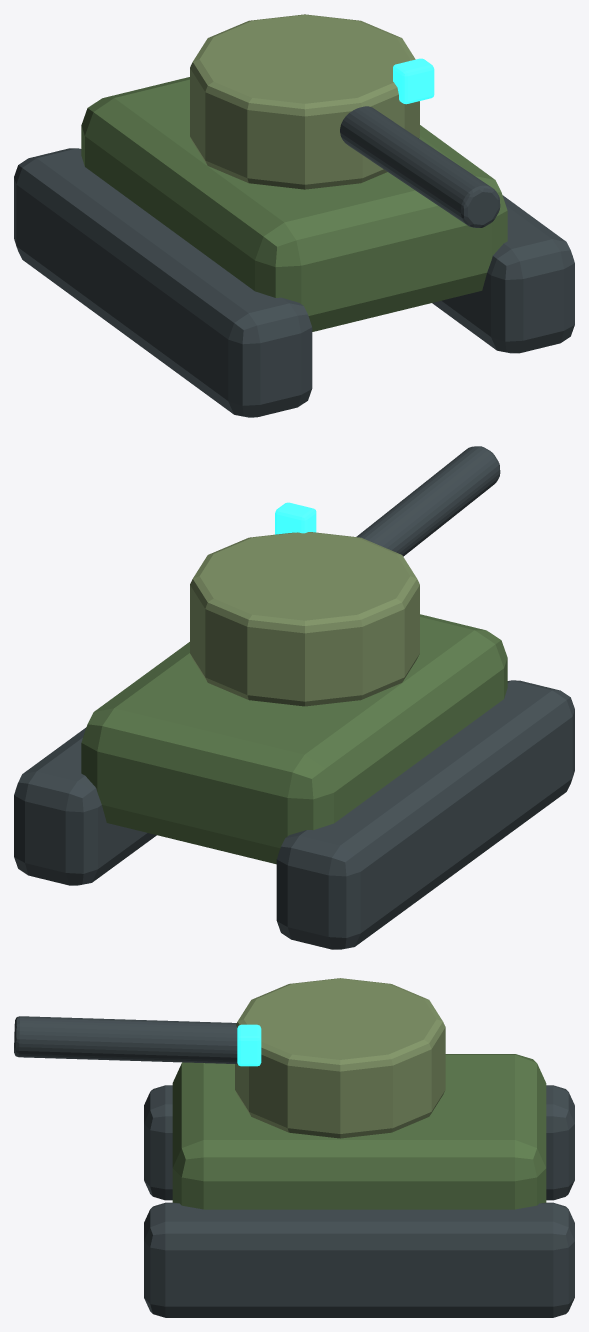
The model's file is human_tank.glb.
The picture shows the model from 3 angles, top to bottom: view 1: azimuth 30°, elevation 25°; view 2: azimuth 150°, elevation 25°; view 3: azimuth 270°, elevation 25°; orthographic projection. The views are drawn at different scales.
Visible parts, largest first — view 1: Chassis, LeftTrack, Turret, RightTrack, MainGun, CyanOptic; view 2: Chassis, LeftTrack, Turret, RightTrack, MainGun, CyanOptic; view 3: RightTrack, Chassis, Turret, MainGun, LeftTrack, CyanOptic.
Part boxes in pixels (x1=…): Chassis: x1=81, y1=77, x2=507, y2=331; LeftTrack: x1=14, y1=148, x2=312, y2=417; Turret: x1=190, y1=14, x2=419, y2=189; RightTrack: x1=432, y1=195, x2=574, y2=353; MainGun: x1=340, y1=106, x2=500, y2=227; CyanOptic: x1=393, y1=58, x2=434, y2=104; Chassis: x1=81, y1=614, x2=507, y2=864; LeftTrack: x1=276, y1=680, x2=574, y2=949; Turret: x1=190, y1=532, x2=419, y2=706; RightTrack: x1=14, y1=727, x2=156, y2=885; MainGun: x1=356, y1=446, x2=500, y2=556; CyanOptic: x1=275, y1=502, x2=316, y2=534; RightTrack: x1=144, y1=1202, x2=574, y2=1317; Chassis: x1=172, y1=1054, x2=546, y2=1209; Turret: x1=235, y1=978, x2=445, y2=1138; MainGun: x1=14, y1=1016, x2=237, y2=1063; LeftTrack: x1=144, y1=1085, x2=574, y2=1200; CyanOptic: x1=237, y1=1024, x2=261, y2=1066.
Bounding box in the file's own units: 0.76 × 0.565 × 1.17.
